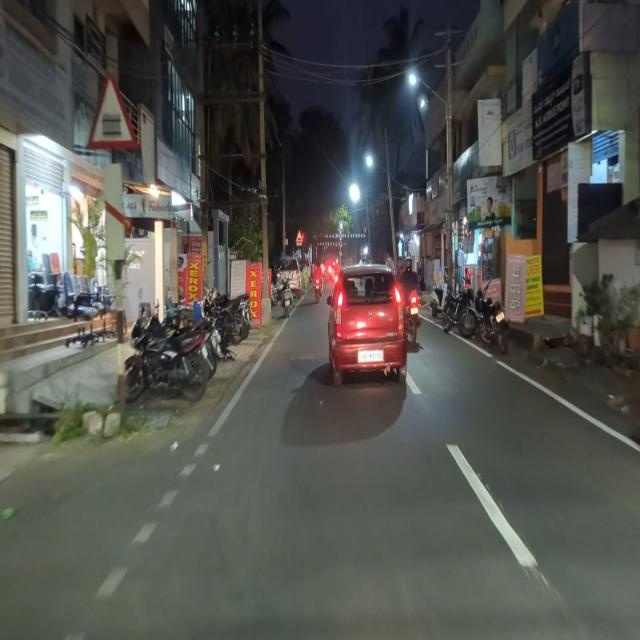bien_nguy_hiem: (85, 67, 137, 155), (295, 229, 303, 243)
